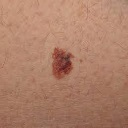Melanoma: (48, 45, 80, 83)
